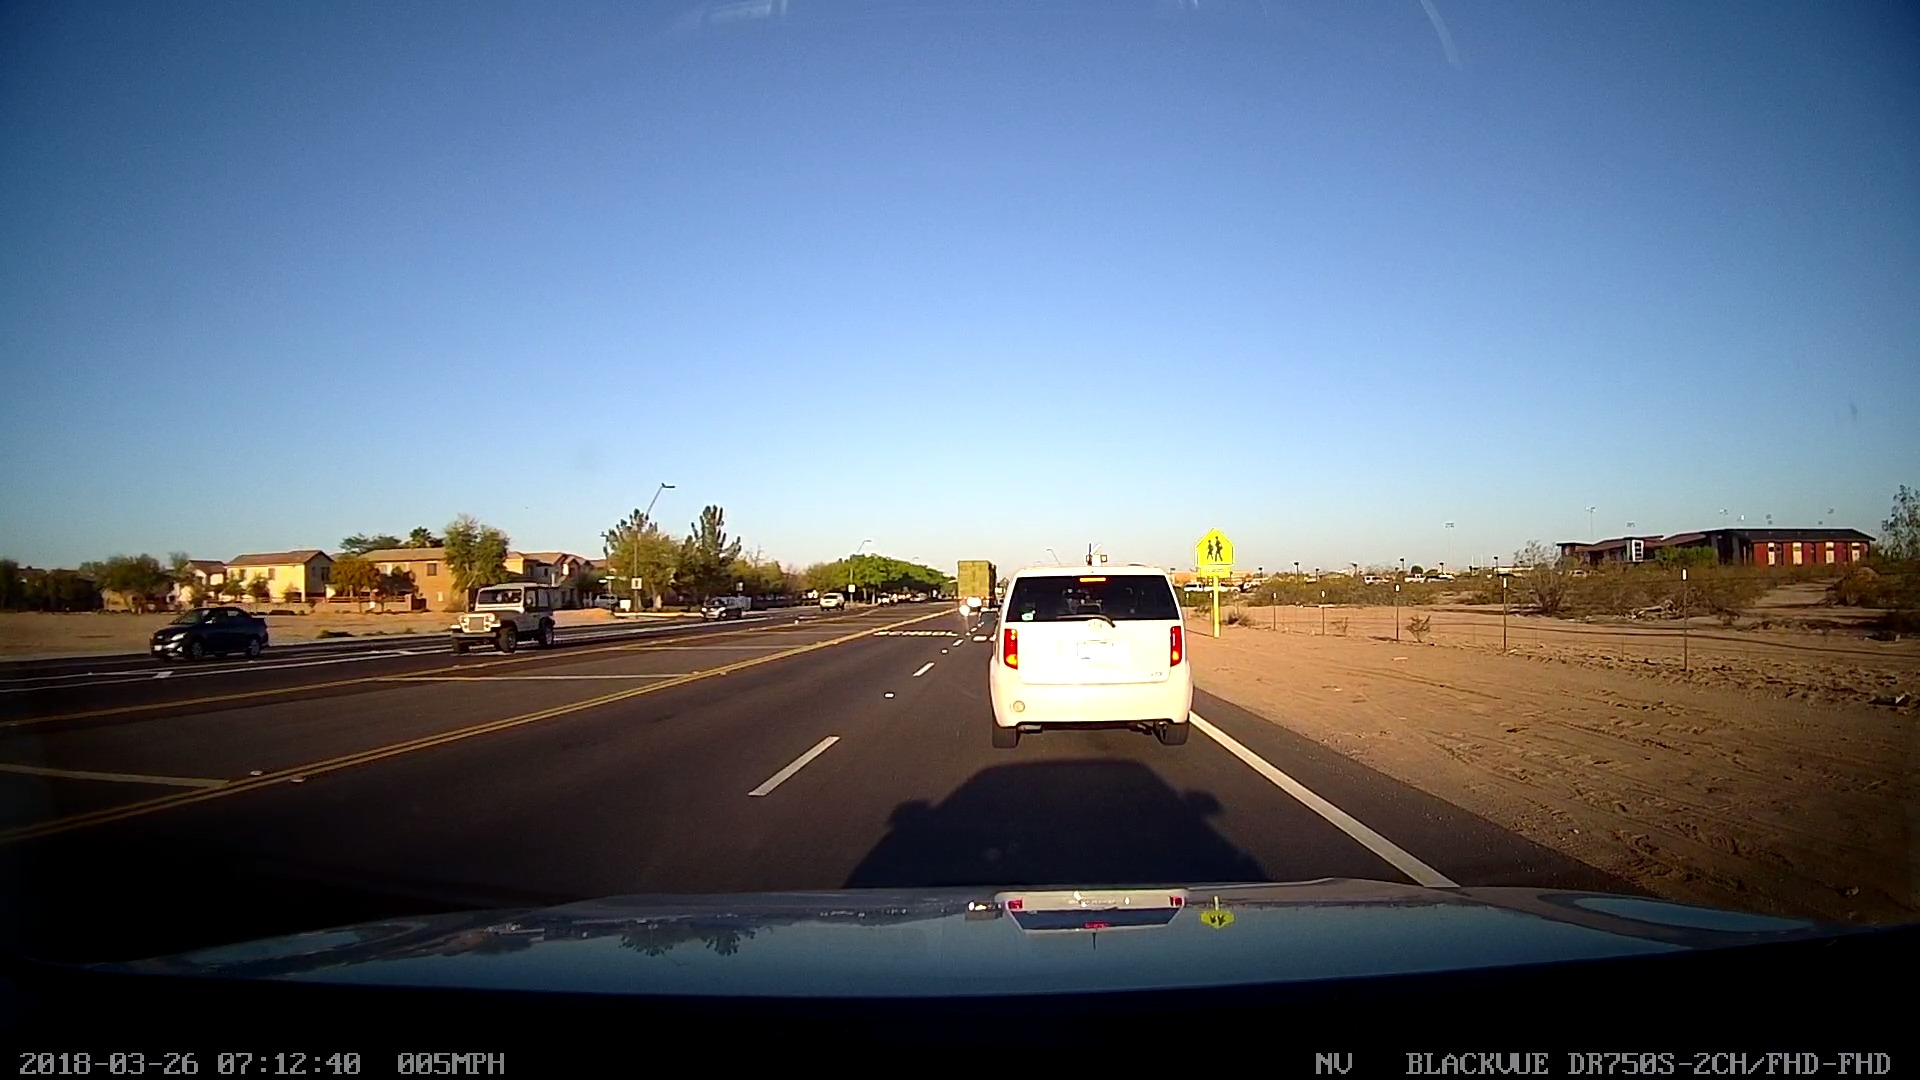plate: (1068, 629, 1122, 668)
vehicle: (983, 559, 1200, 756), (441, 580, 559, 657), (143, 602, 276, 668), (946, 553, 996, 624), (698, 597, 741, 626)
